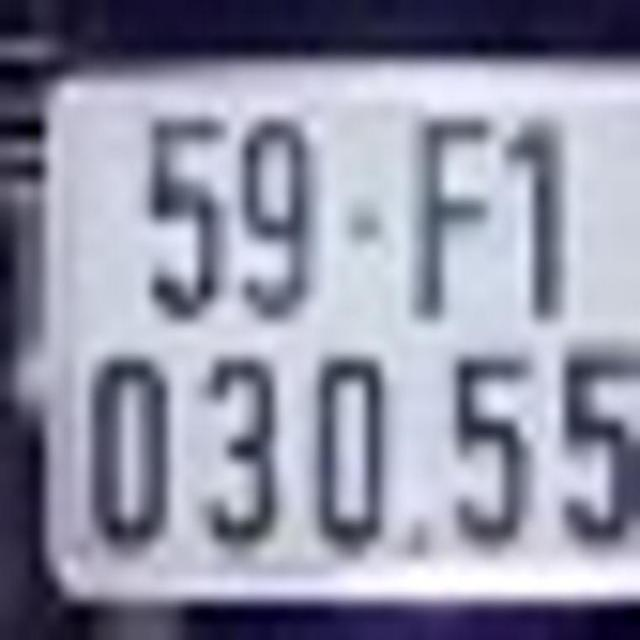0: (87, 346, 172, 545), (310, 349, 397, 538)
1: (510, 114, 580, 325)
3: (197, 351, 288, 548)
5: (545, 335, 640, 536), (452, 340, 536, 548), (150, 108, 221, 327)
9: (235, 111, 318, 331)
F: (402, 106, 498, 329)
